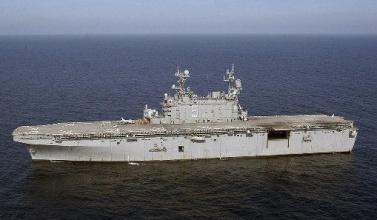warship: (8, 74, 356, 162)
